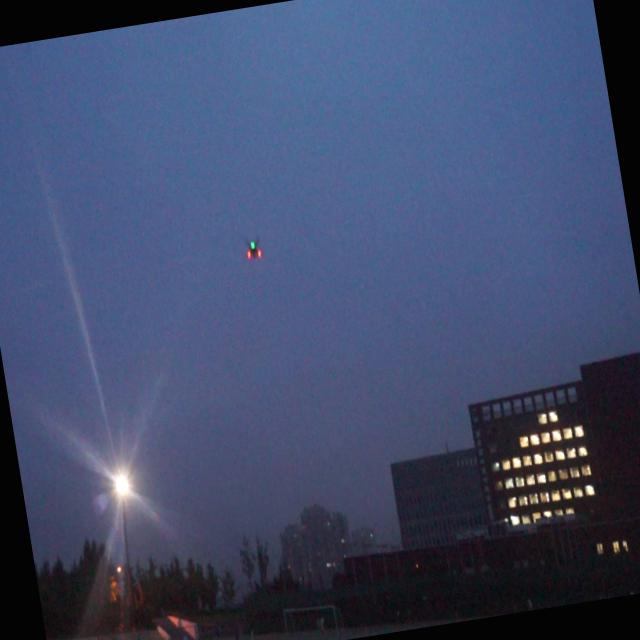drone: (242, 230, 266, 264)
